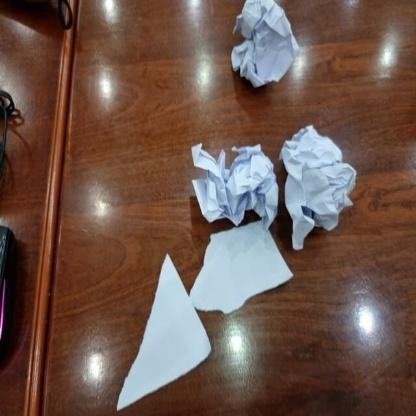trash: (117, 255, 210, 415), (192, 220, 292, 316), (281, 127, 358, 249), (192, 141, 278, 227), (229, 0, 298, 88)
